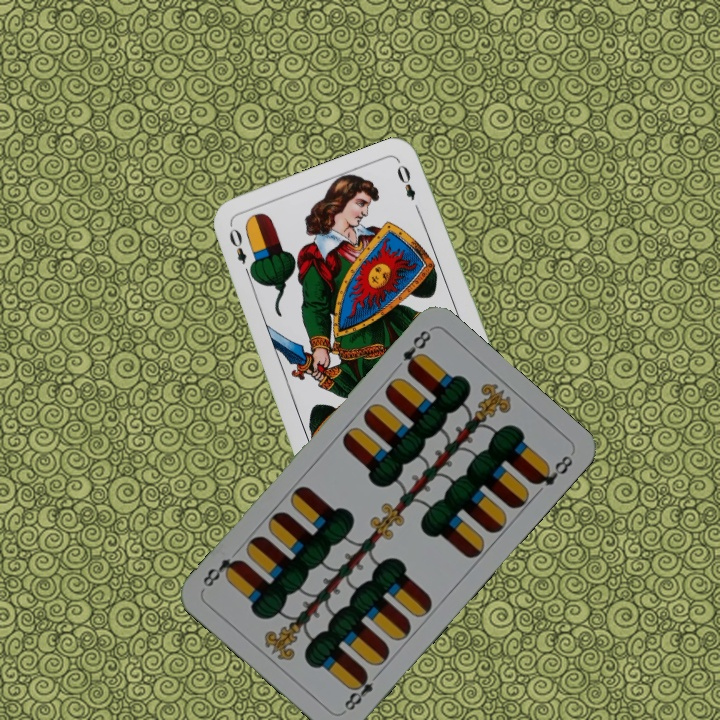E8: (338, 667, 384, 715), (398, 326, 434, 375)
EO: (225, 224, 255, 280)
